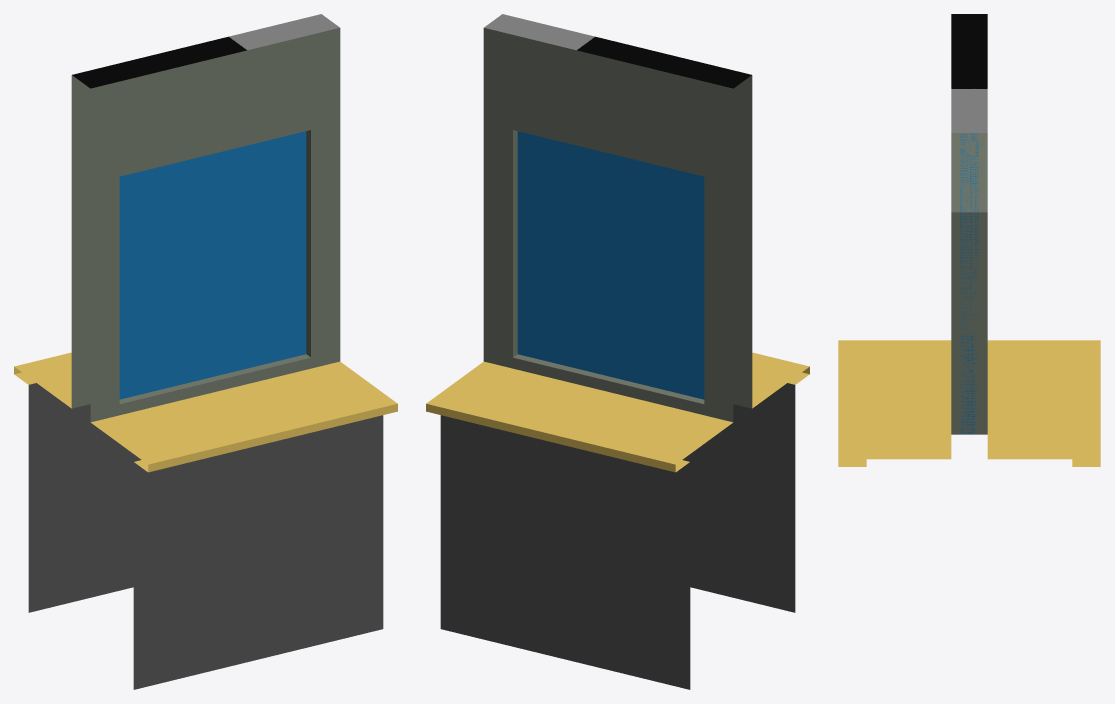
Rendered from parlor.fbx.
The picture shows the model from 3 angles, left to right: view 1: azimuth 30°, elevation 25°; view 2: azimuth 150°, elevation 25°; view 3: azimuth 270°, elevation 25°; orthographic projection. The views are drawn at different scales.
Parts seen in each view (by area): view 1: parlor_1; view 2: parlor_1; view 3: parlor_1.
Part boxes in pixels (box(x1,y1,x2,y2)): parlor_1: box(14, 14, 397, 689); parlor_1: box(426, 14, 809, 689); parlor_1: box(838, 14, 1100, 466).
Bounding box in the file's own units: 100 × 218 × 93.
2 materials, 2 textured.
